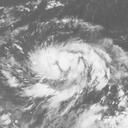cyclone: (20, 40, 111, 111)
